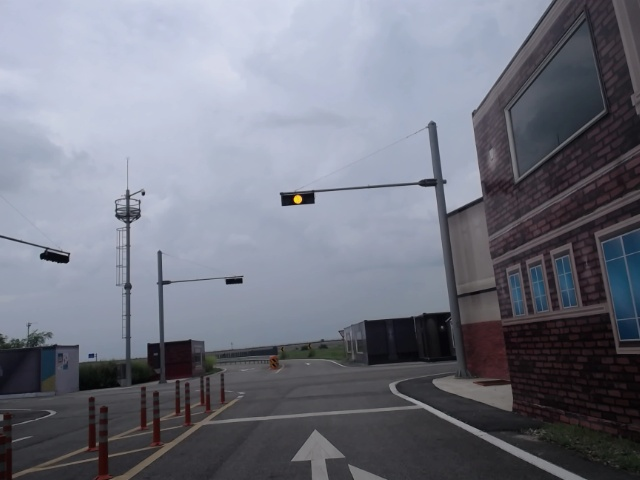orange_3: (281, 192, 315, 206)
